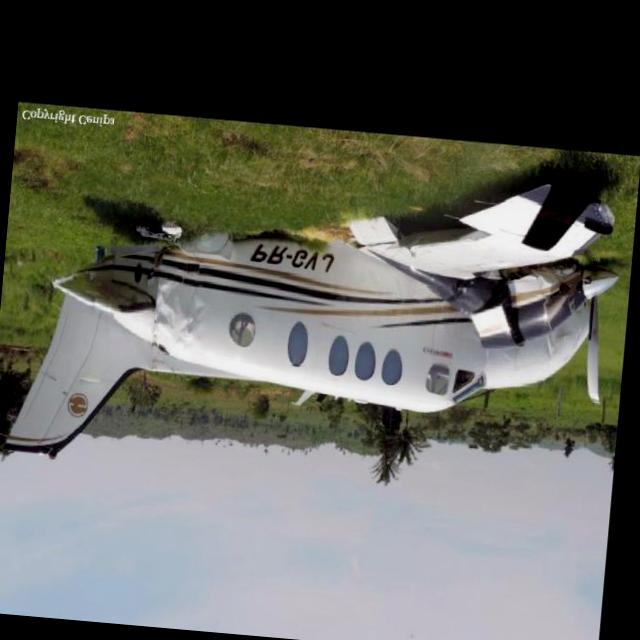dent: (152, 269, 210, 348)
